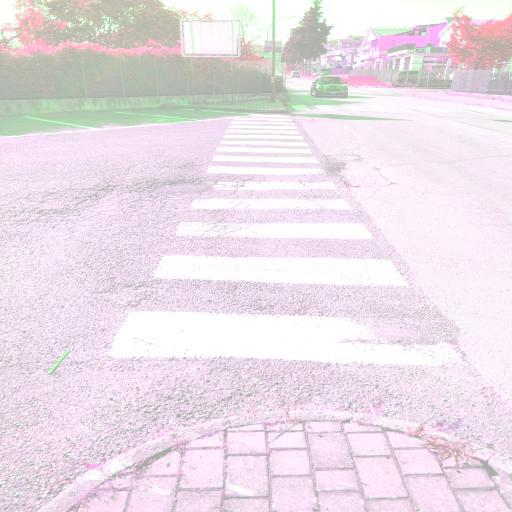crosswalk: (146, 218, 421, 294), (202, 154, 334, 178), (222, 124, 303, 136), (340, 102, 396, 117)
